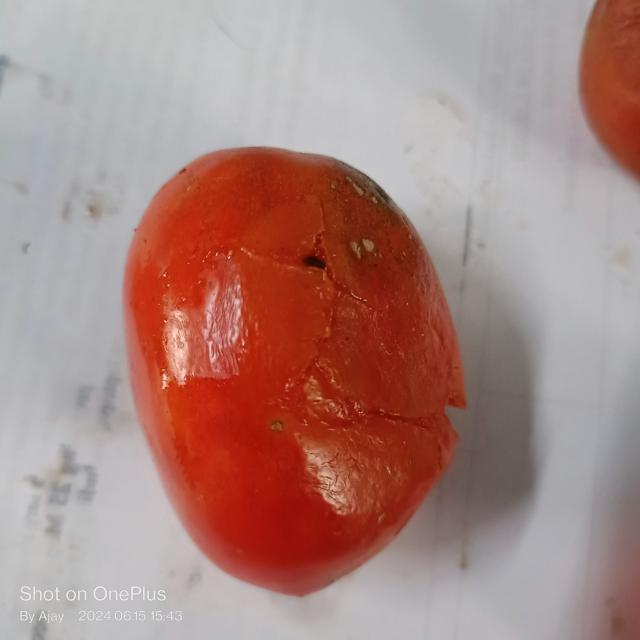Botrytis: (282, 378, 440, 424), (300, 248, 333, 274)
